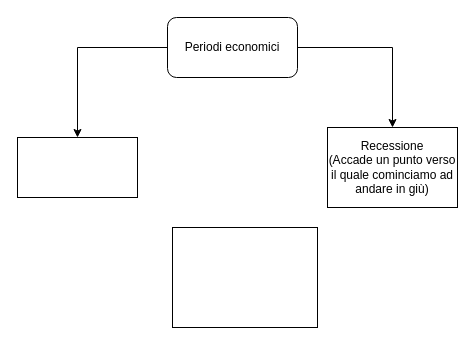
Image size: 475x345. Some labels were removed from this diagram. Here are the shapes that lost their labels. From the top down, the centre of each, then its label:
[77,167]: Espansione (Andiamo in su fino ad una certa)
[245,277]: Pressione fiscale (Rapporto tra spese dei contribuenti e il reddito statale)
